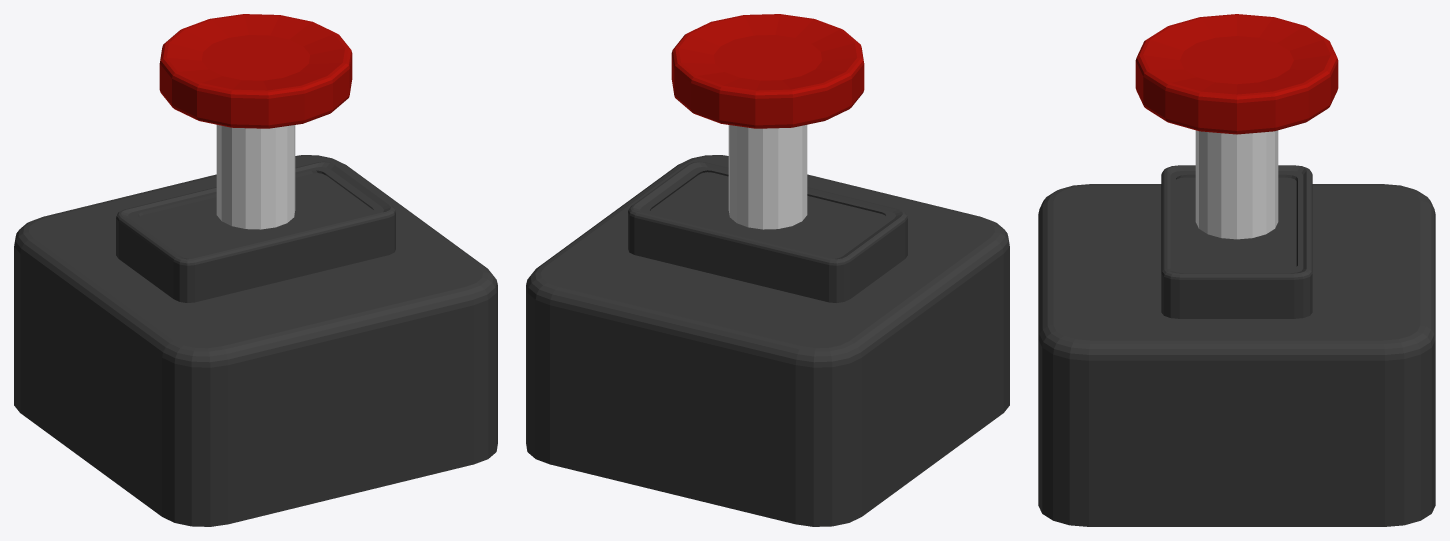
File: Toggle.fbx
3 renders of one model, left to right at view 1: azimuth 30°, elevation 25°; view 2: azimuth 150°, elevation 25°; view 3: azimuth 270°, elevation 25°, orthographic. The views are drawn at different scales.
Visible parts, largest first — view 1: Toggle, Switch; view 2: Toggle, Switch; view 3: Toggle, Switch.
Part boxes in pixels (left/top/right/bottom): Toggle: left=14, top=155, right=497, bottom=526; Switch: left=159, top=14, right=352, bottom=229; Toggle: left=526, top=155, right=1009, bottom=526; Switch: left=671, top=14, right=864, bottom=229; Toggle: left=1038, top=165, right=1435, bottom=526; Switch: left=1135, top=14, right=1338, bottom=239.
Size of the model in its own units: 0.1 by 0.1078 by 0.1.
